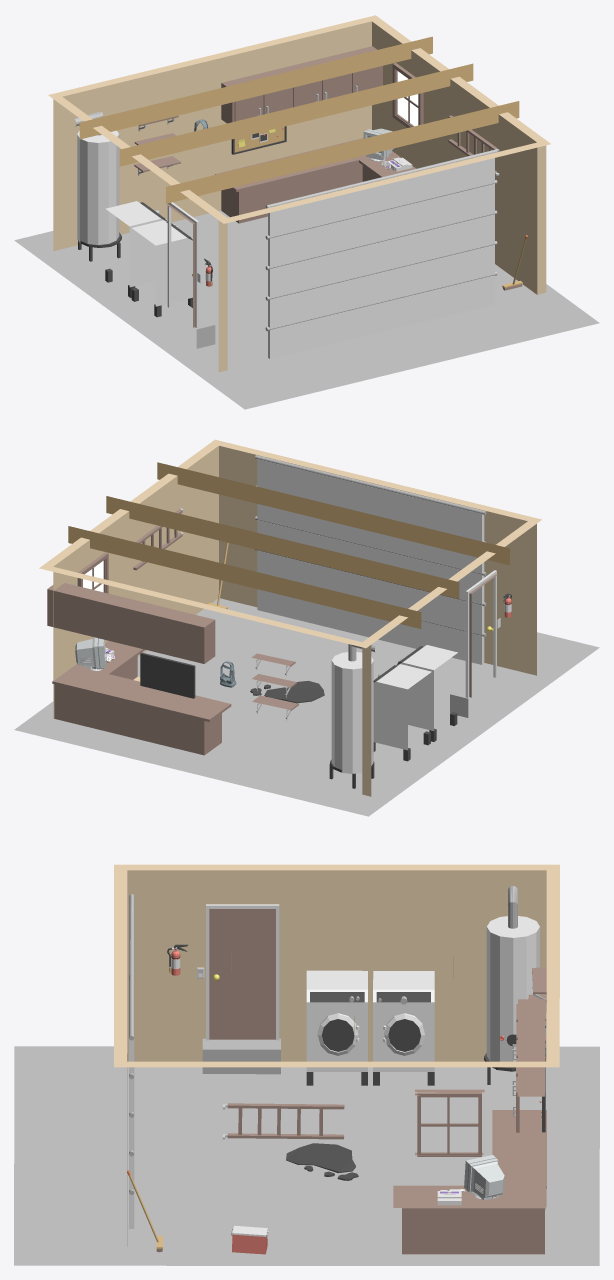
The model's file is garage.gltf.
3 renders of one model, top to bottom at view 1: azimuth 30°, elevation 25°; view 2: azimuth 150°, elevation 25°; view 3: azimuth 270°, elevation 25°, orthographic. The views are drawn at different scales.
Visible parts, largest first — view 1: mesh308615427; view 2: mesh308615427; view 3: mesh308615427.
Part boxes in pixels (x1,y1,x2,y2): mesh308615427: [14, 15, 599, 409]; mesh308615427: [14, 439, 599, 816]; mesh308615427: [14, 864, 599, 1265].
Bounding box in the file's own units: 6.78 × 2.98 × 7.55.
